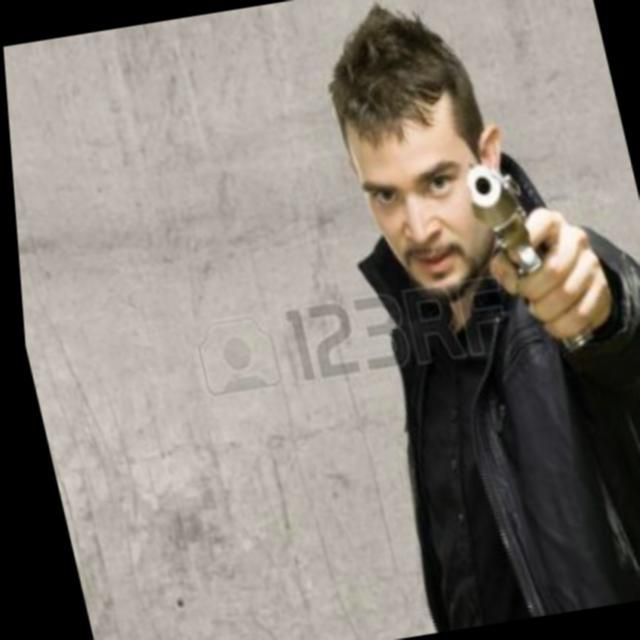weapon: (443, 150, 607, 380)
